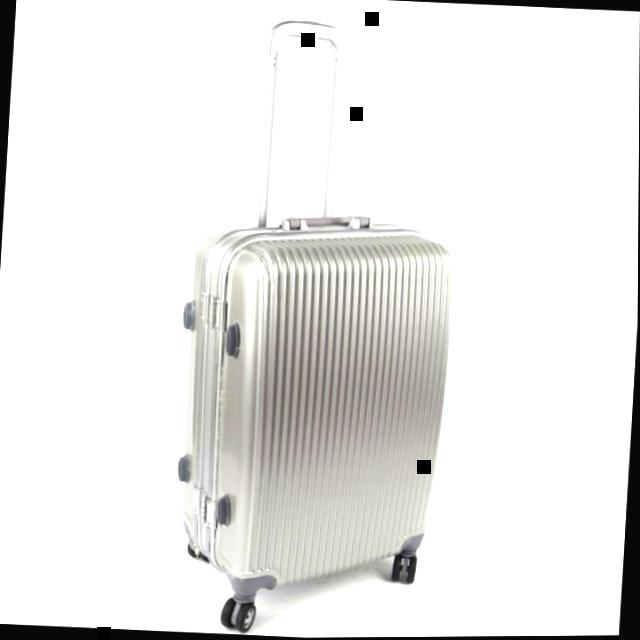luggage: (164, 201, 462, 617)
